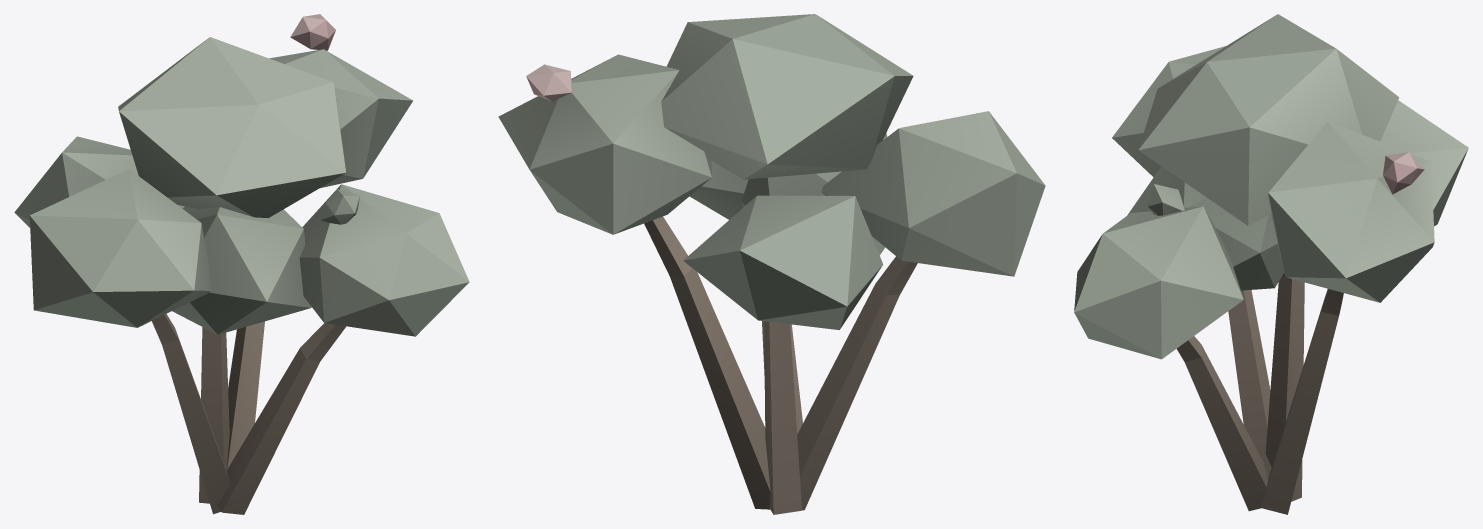
File: tamarisk.lod1.glb
3 renders of one model, left to right at view 1: azimuth 30°, elevation 25°; view 2: azimuth 150°, elevation 25°; view 3: azimuth 270°, elevation 25°, orthographic. The views are drawn at different scales.
Size of the model in its own units: 2.61 by 2.6 by 1.99.
